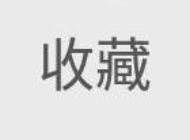TextView: (1, 1, 189, 139)
